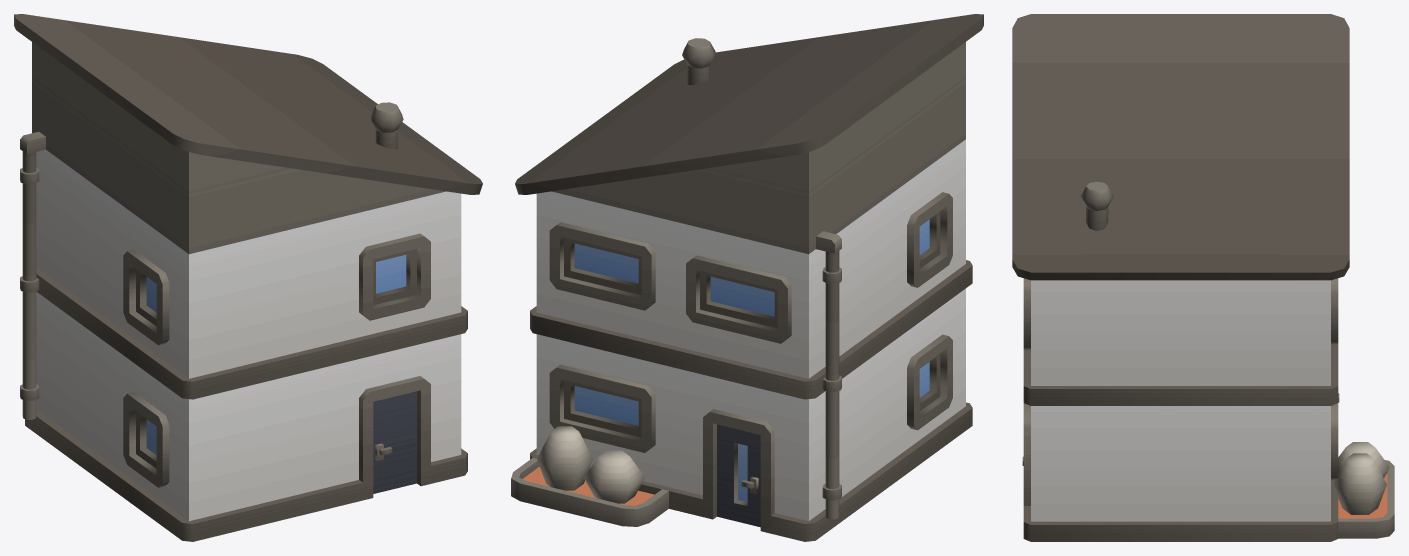
The model's file is sub-building-type-k.glb.
3 renders of one model, left to right at view 1: azimuth 30°, elevation 25°; view 2: azimuth 150°, elevation 25°; view 3: azimuth 270°, elevation 25°, orthographic. The views are drawn at different scales.
Visible parts, largest first — view 1: building-type-k; view 2: building-type-k; view 3: building-type-k.
Part boxes in pixels (x1,y1,x2,y2): building-type-k: (14,14,482,541); building-type-k: (511,14,983,541); building-type-k: (1012,14,1394,541).
Size of the model in its own units: 0.921 by 1.15 by 1.02.
Materials: 1 (1 with a texture image).
